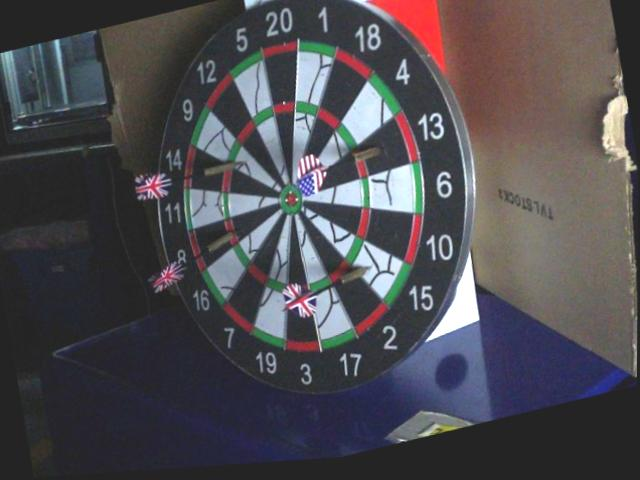single_13: (361, 126, 401, 167)
single_15: (363, 244, 402, 297)
single_8: (236, 207, 276, 234)
single_9: (235, 151, 277, 186)
